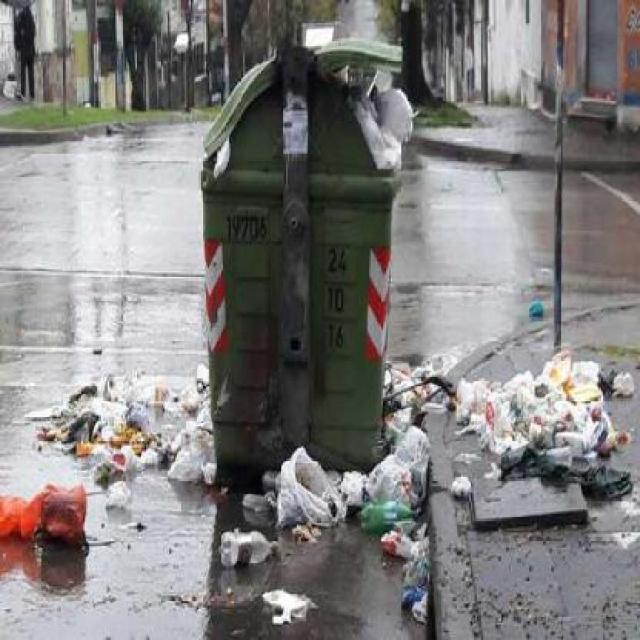garbage: (479, 351, 640, 537), (85, 346, 206, 486), (271, 438, 426, 526), (0, 466, 88, 567), (346, 68, 417, 170), (381, 355, 454, 433), (378, 531, 430, 628), (31, 376, 82, 472), (237, 585, 328, 628), (206, 522, 278, 576), (520, 298, 547, 336)
